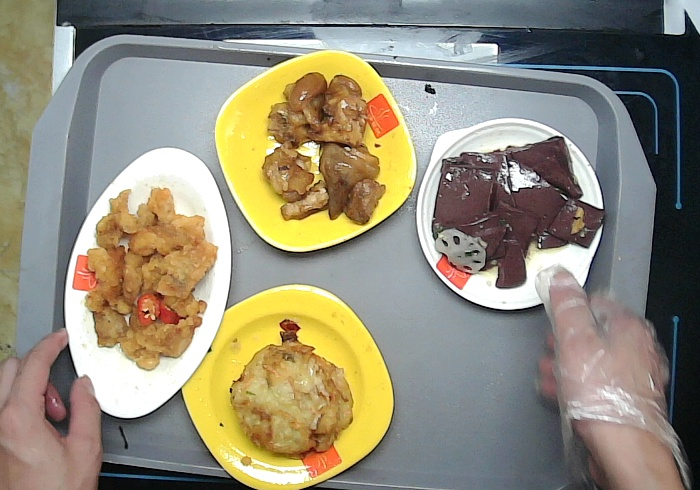SHKJ-Bao_Yu_Pan: (416, 117, 607, 311)
SHKJ-Huang_Se_Cai_Die: (215, 50, 418, 255)
SHKJ-Huang_Se_Si_Fang_Cai_Die: (182, 285, 395, 490)
SHKJ-Yu_Pan: (63, 147, 230, 419)
